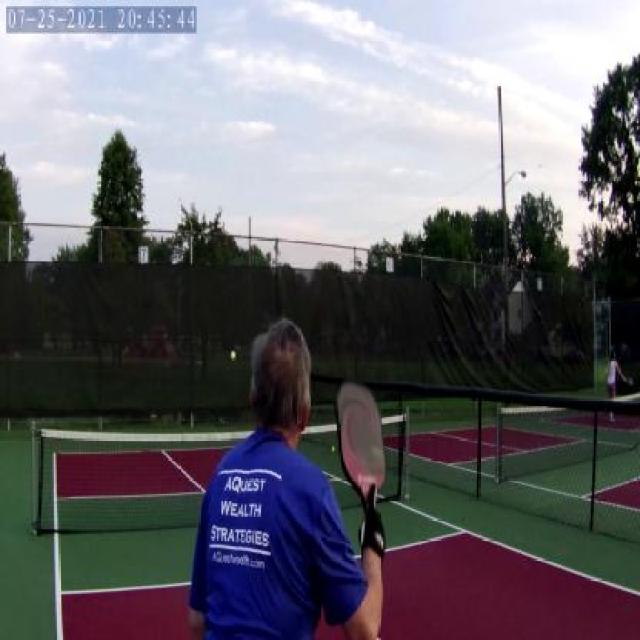ball: (228, 348, 238, 360)
